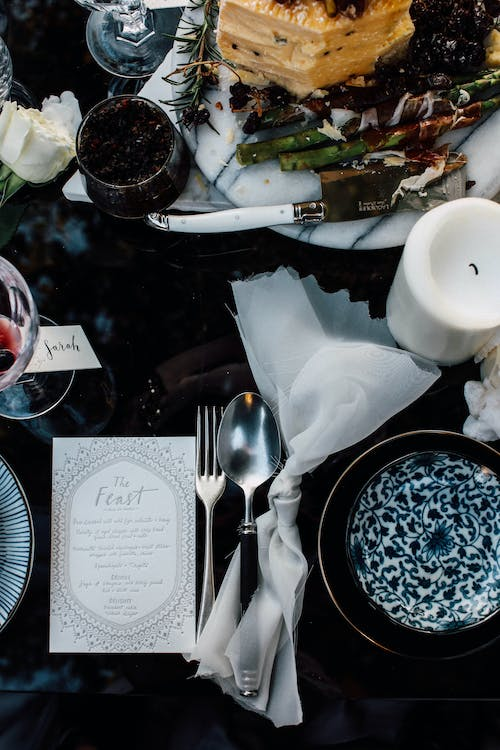alcohol: (0, 249, 77, 419)
knife: (142, 159, 469, 236)
